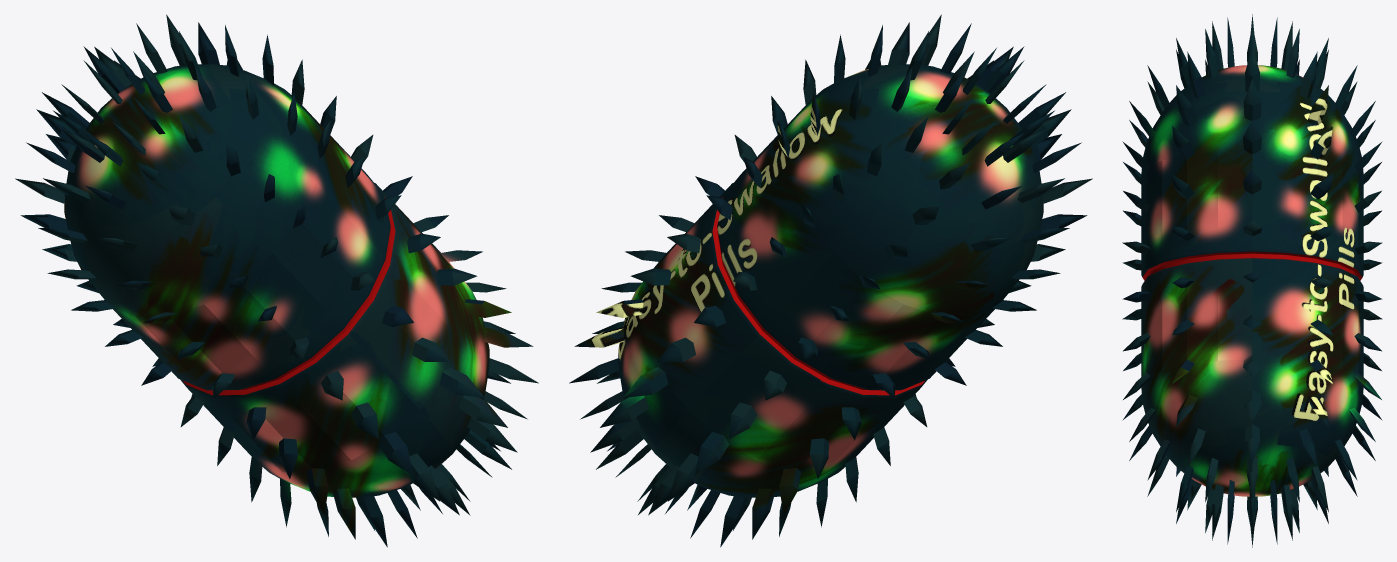
File: SpikyPill.fbx
3 renders of one model, left to right at view 1: azimuth 30°, elevation 25°; view 2: azimuth 150°, elevation 25°; view 3: azimuth 270°, elevation 25°, orthographic. The views are drawn at different scales.
Visible parts, largest first — view 1: csw_spikypill; view 2: csw_spikypill; view 3: csw_spikypill.
Part boxes in pixels (x1,y1,x2,y2): csw_spikypill: (15, 14, 538, 547); csw_spikypill: (569, 14, 1092, 547); csw_spikypill: (1122, 14, 1382, 547).
Size of the model in its own units: 0.4541 by 0.7689 by 0.8419.
